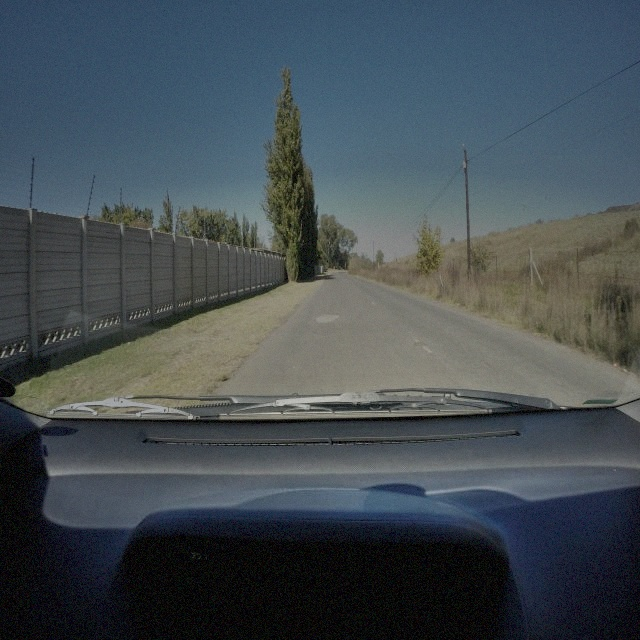pothole: (315, 313, 340, 324), (414, 338, 426, 349)
